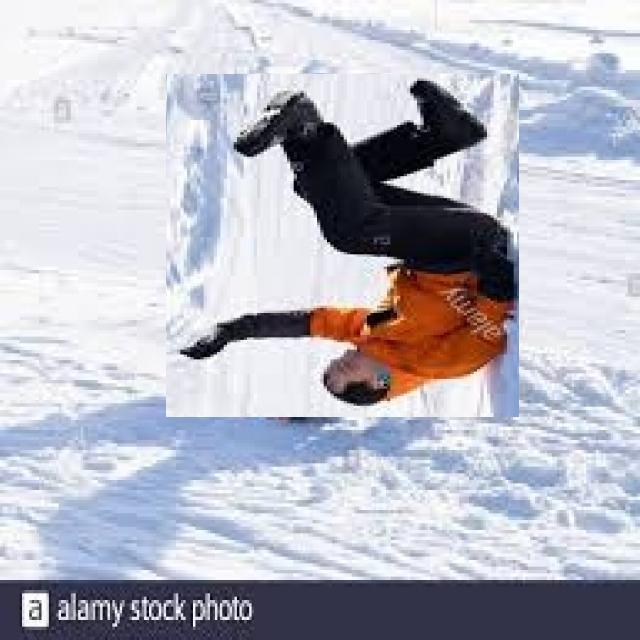Fall: (179, 76, 521, 412)
